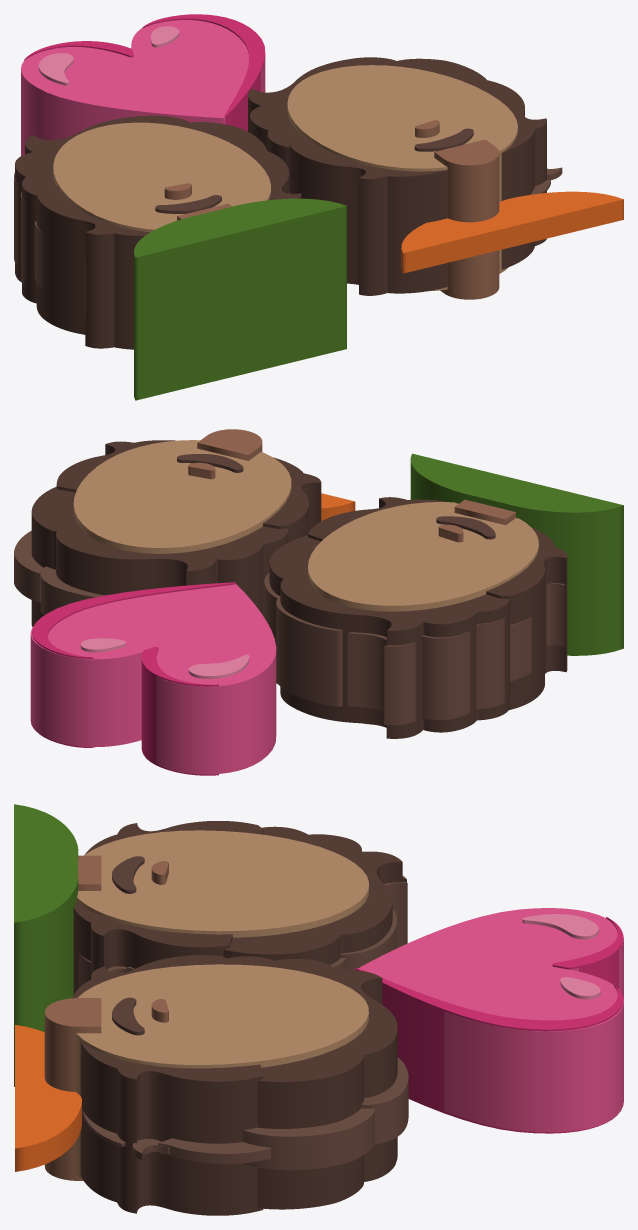
Rendered from emoji_u1f491_1f3fd.glb.
3 views of the same model, one above another, from view 1: azimuth 30°, elevation 25°; view 2: azimuth 150°, elevation 25°; view 3: azimuth 270°, elevation 25° (orthographic). The views are drawn at different scales.
Parts seen in each view (by area): view 1: emoji_u1f491_1f3fd; view 2: emoji_u1f491_1f3fd; view 3: emoji_u1f491_1f3fd.
Part boxes in pixels (x1,y1,x2,y2): emoji_u1f491_1f3fd: (14,14,623,400); emoji_u1f491_1f3fd: (14,429,623,775); emoji_u1f491_1f3fd: (14,804,623,1215).
Size of the model in its own units: 0.0351 by 0.0098 by 0.033.
